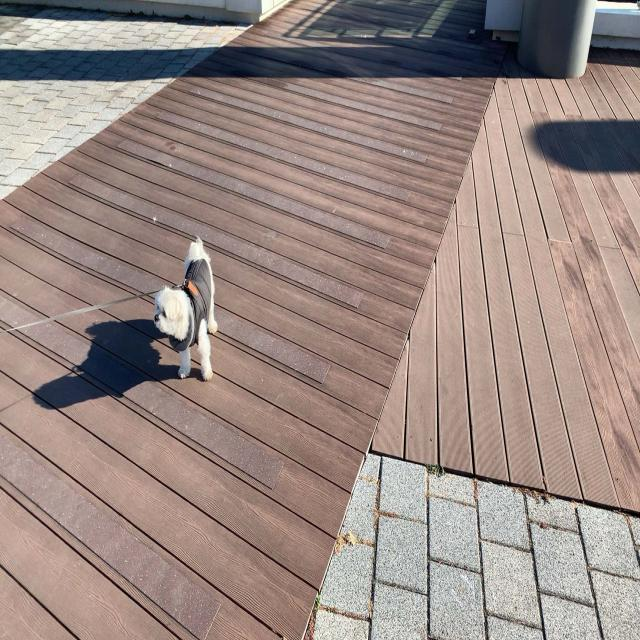Dog: (153, 235, 219, 382)
